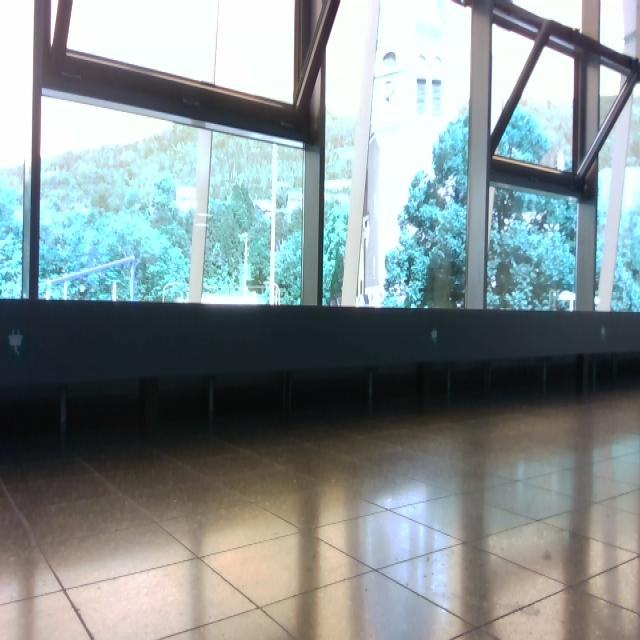light bulb: (431, 328, 438, 344)
tiled floor: (2, 385, 639, 638)
window: (1, 1, 640, 316)
